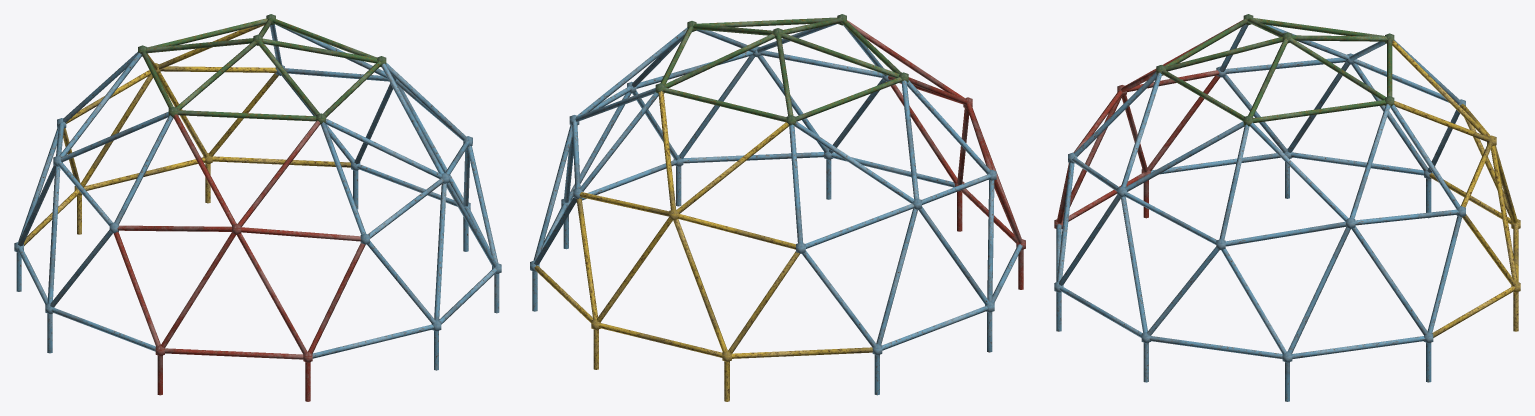
File: playground_dome_climber_lod2_web.glb
3 views of the same model, side by side, from view 1: azimuth 30°, elevation 25°; view 2: azimuth 150°, elevation 25°; view 3: azimuth 270°, elevation 25° (orthographic).
Parts seen in each view (by area): view 1: DomeClimber_Mesh; view 2: DomeClimber_Mesh; view 3: DomeClimber_Mesh.
Boxes of the visible parts, bbox=[...] form: DomeClimber_Mesh: bbox=[14, 14, 501, 401]; DomeClimber_Mesh: bbox=[530, 14, 1025, 401]; DomeClimber_Mesh: bbox=[1054, 14, 1520, 401].
Bounding box in the file's own units: 4.3 × 2.58 × 4.08.
4 materials, 4 textured.
